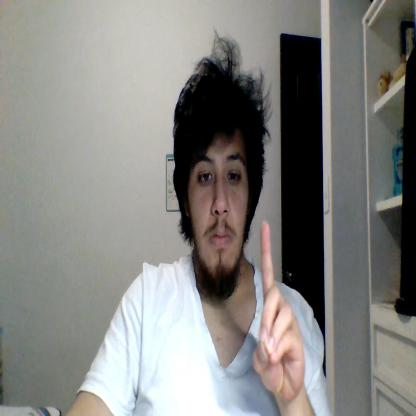D: (252, 221, 306, 398)
